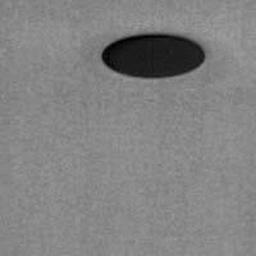Punching: (101, 33, 205, 79)
